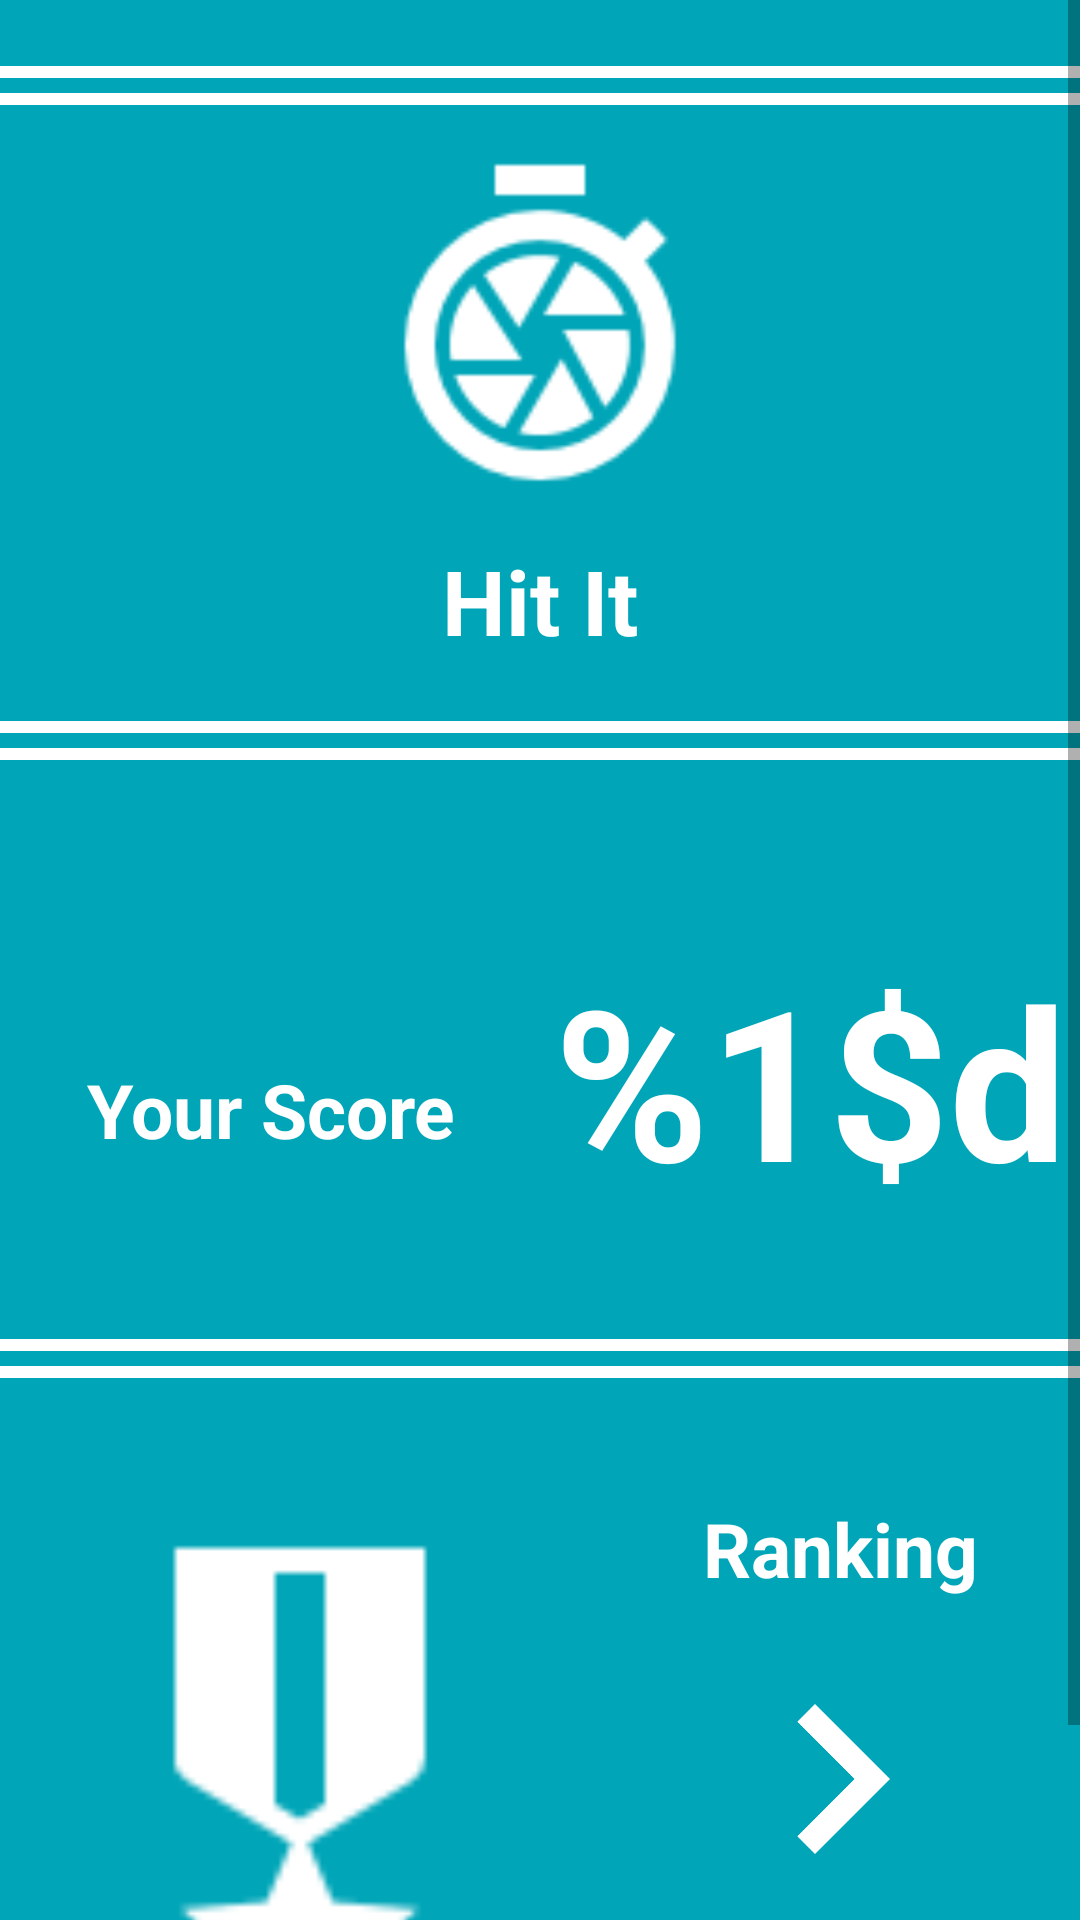

Icon bounding boxes for this 1080x1920 phone screenshot, format (x1, y1, x2, y2):
navigate next: (797, 1704, 890, 1854)
